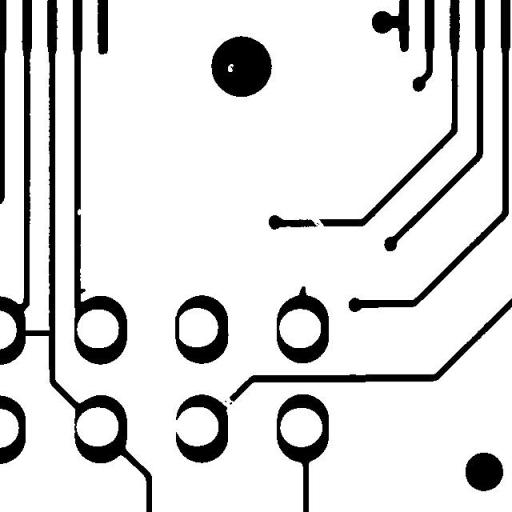mousebite: (70, 201, 88, 222)
open: (214, 386, 242, 418), (303, 210, 332, 236)
pin-hole: (220, 56, 241, 79)
short: (12, 322, 59, 344), (168, 308, 186, 347)
spur: (291, 278, 314, 306), (70, 281, 93, 301)
